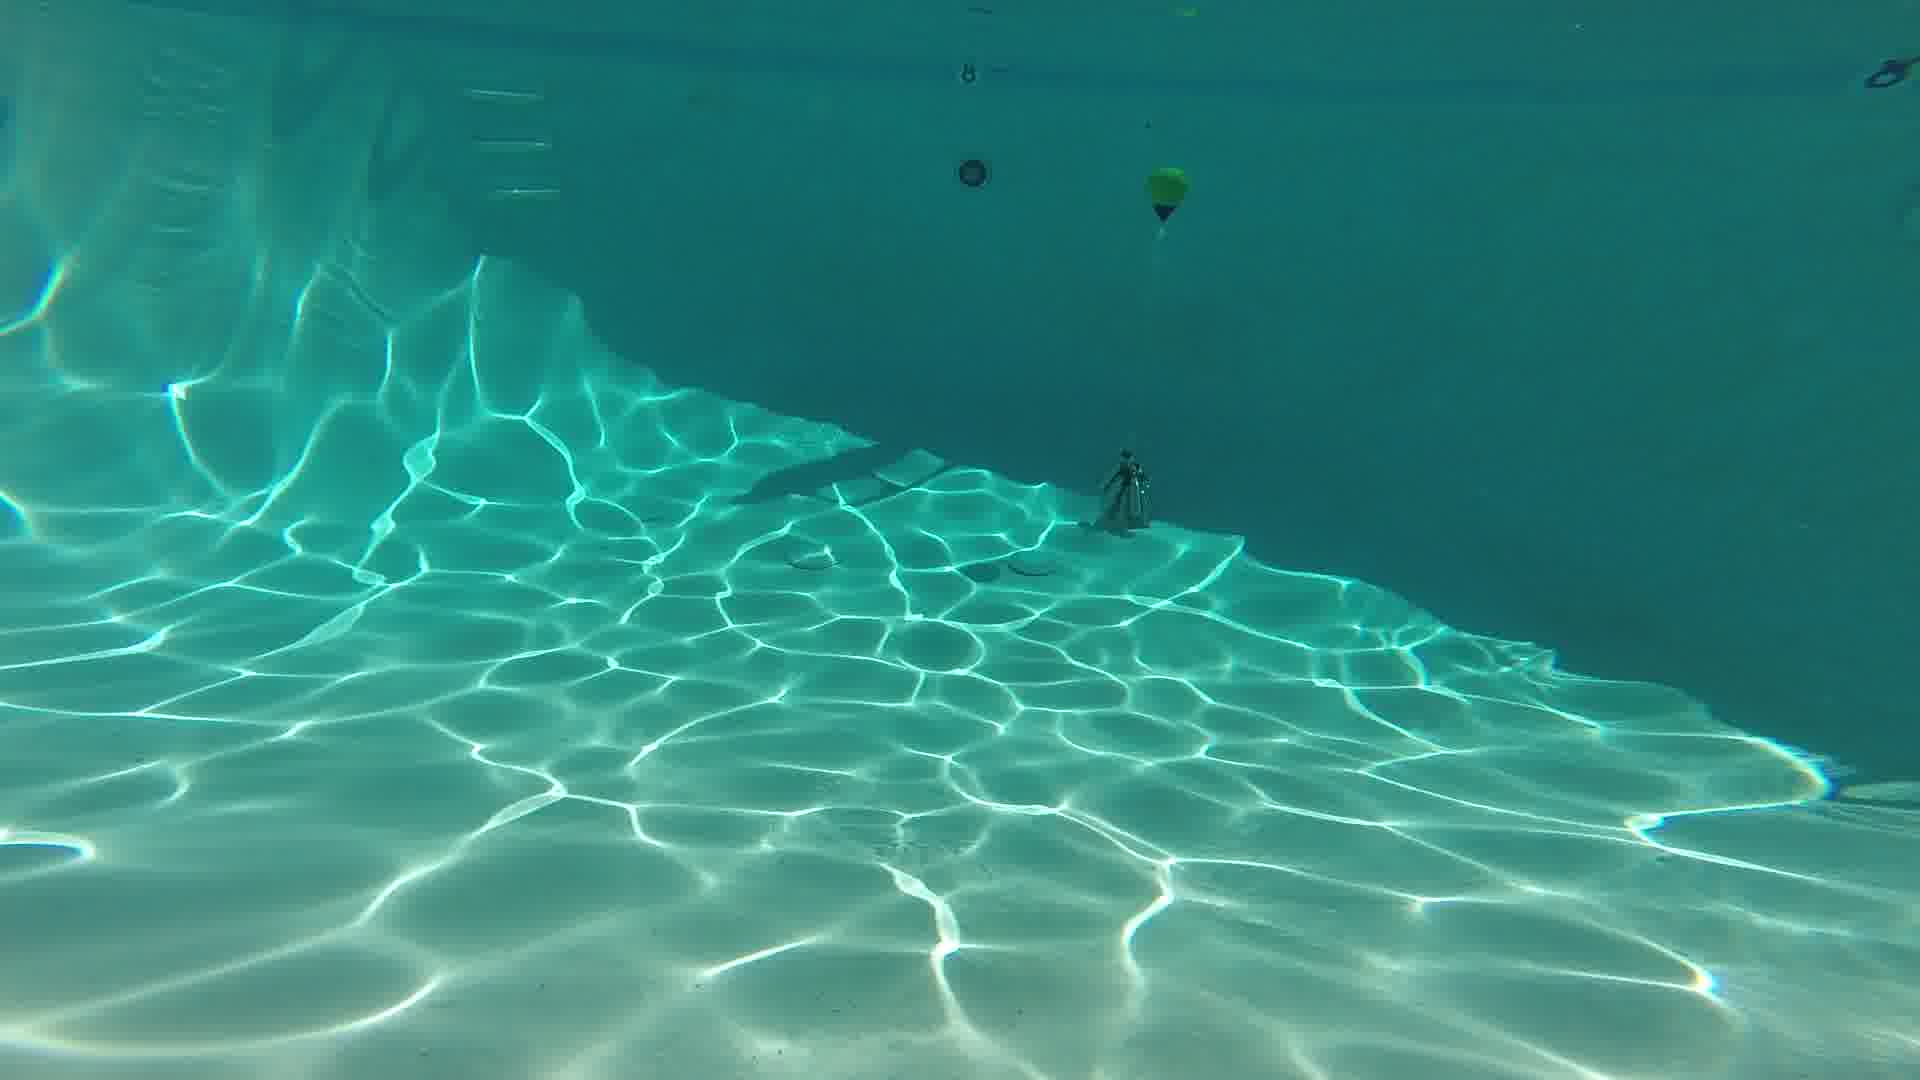yellow_buoy: (1150, 166, 1187, 224)
